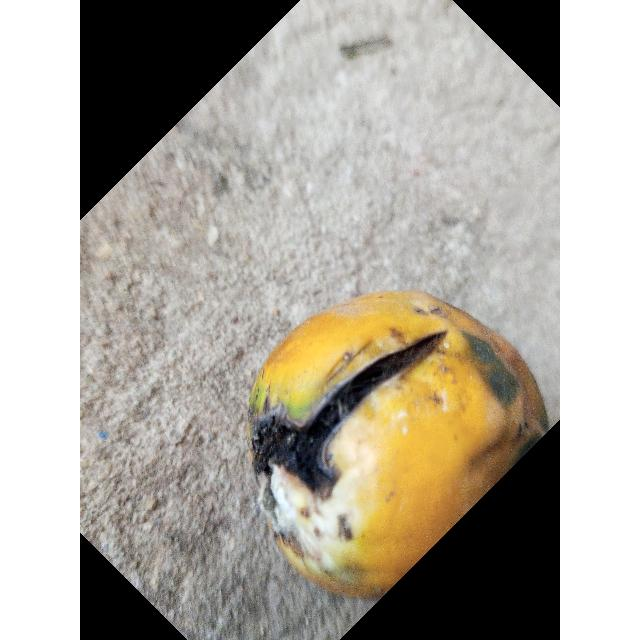damaged: (248, 292, 548, 596)
